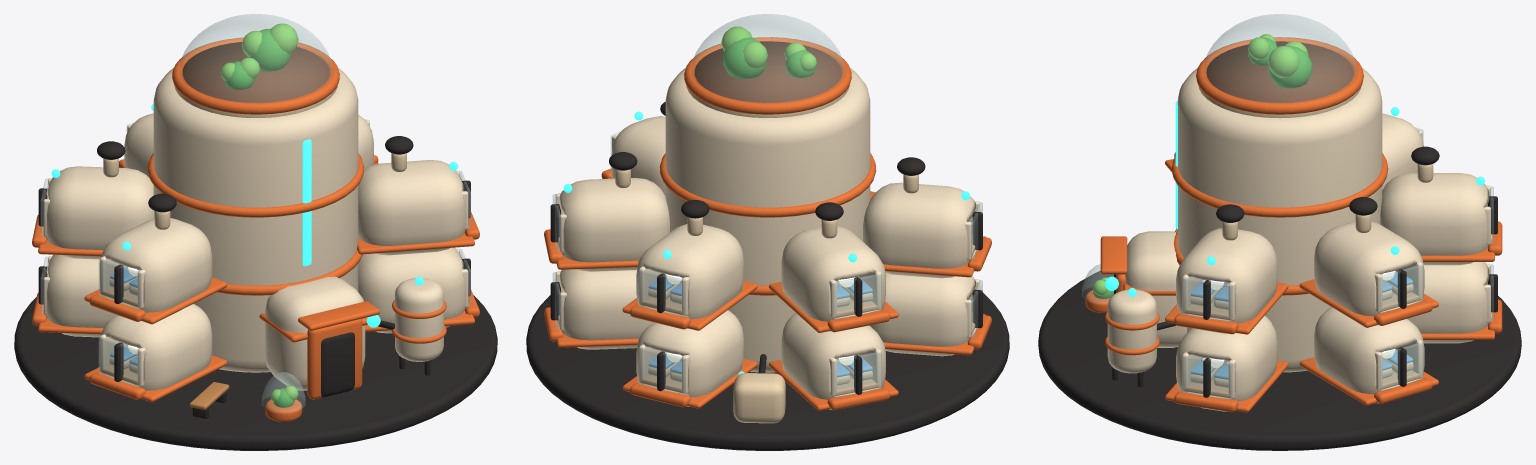
The model's file is home-a-20.glb.
3 renders of one model, left to right at view 1: azimuth 30°, elevation 25°; view 2: azimuth 150°, elevation 25°; view 3: azimuth 270°, elevation 25°, orthographic.
Parts seen in each view (by area): view 1: Cylinder.001, Cylinder, Sphere.027, Cube.081, Cube.126, Cube.141, Cube.066, Cube, Cylinder.008, Cube.006, Cube.051, Cylinder.013 (+25 smaller); view 2: Cylinder.001, Cylinder, Sphere.027, Cube.141, Cube.096, Cube.111, Cube.066, Cube.126, Cube.021, Cube.036, Cylinder.008, Cube.051 (+23 smaller); view 3: Cylinder, Cylinder.001, Sphere.027, Cube.111, Cube.096, Cube.081, Cube.021, Cylinder.008, Cube.036, Cube.006, Cube, Cylinder.013 (+22 smaller).
Part boxes in pixels (box(x1,y1,x2,y2)): Cylinder.001: box(153, 68, 358, 372); Cylinder: box(14, 295, 497, 450); Sphere.027: box(179, 14, 332, 102); Cube.081: box(358, 160, 465, 255); Cube.126: box(46, 166, 154, 259); Cube.141: box(99, 218, 212, 312); Cube.066: box(99, 304, 212, 390); Cube: box(265, 276, 365, 390); Cylinder.008: box(182, 42, 329, 102); Cube.006: box(358, 247, 465, 333); Cube.051: box(46, 254, 116, 337); Cylinder.013: box(395, 278, 443, 361); Cylinder.001: box(665, 68, 870, 372); Cylinder: box(526, 293, 1009, 450); Sphere.027: box(691, 14, 844, 102); Cube.141: box(863, 182, 976, 278); Cube.096: box(557, 177, 669, 271); Cube.111: box(636, 224, 743, 328); Cube.066: box(869, 273, 976, 356); Cube.126: box(781, 226, 885, 331); Cube.021: box(557, 269, 653, 349); Cube.036: box(636, 310, 743, 406); Cylinder.008: box(694, 41, 841, 102); Cube.051: box(781, 313, 885, 409); Cylinder: box(1038, 271, 1521, 450); Cylinder.001: box(1177, 68, 1382, 372); Sphere.027: box(1203, 14, 1356, 102); Cube.111: box(1380, 173, 1491, 265); Cube.096: box(1314, 221, 1424, 325); Cube.081: box(1176, 228, 1277, 333); Cube.021: box(1314, 307, 1424, 403); Cylinder.008: box(1206, 41, 1353, 102); Cube.036: box(1407, 262, 1491, 343); Cube.006: box(1176, 315, 1277, 411); Cube: box(1125, 231, 1186, 347); Cylinder.013: box(1107, 289, 1156, 373).
Size of the model in its own units: 2.36 by 1.77 by 2.36.
